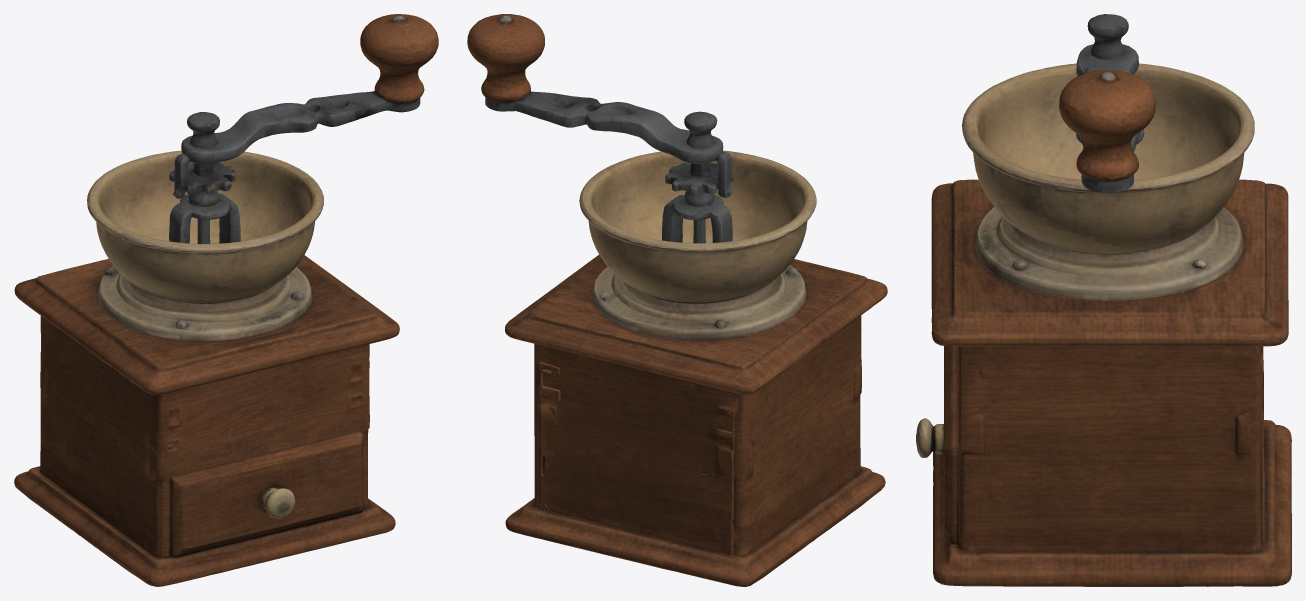
File: parts.glb
3 renders of one model, left to right at view 1: azimuth 30°, elevation 25°; view 2: azimuth 150°, elevation 25°; view 3: azimuth 270°, elevation 25°, orthographic. The views are drawn at different scales.
Size of the model in its own units: 0.2146 by 0.26 by 0.1588.
6 materials, 6 textured.
